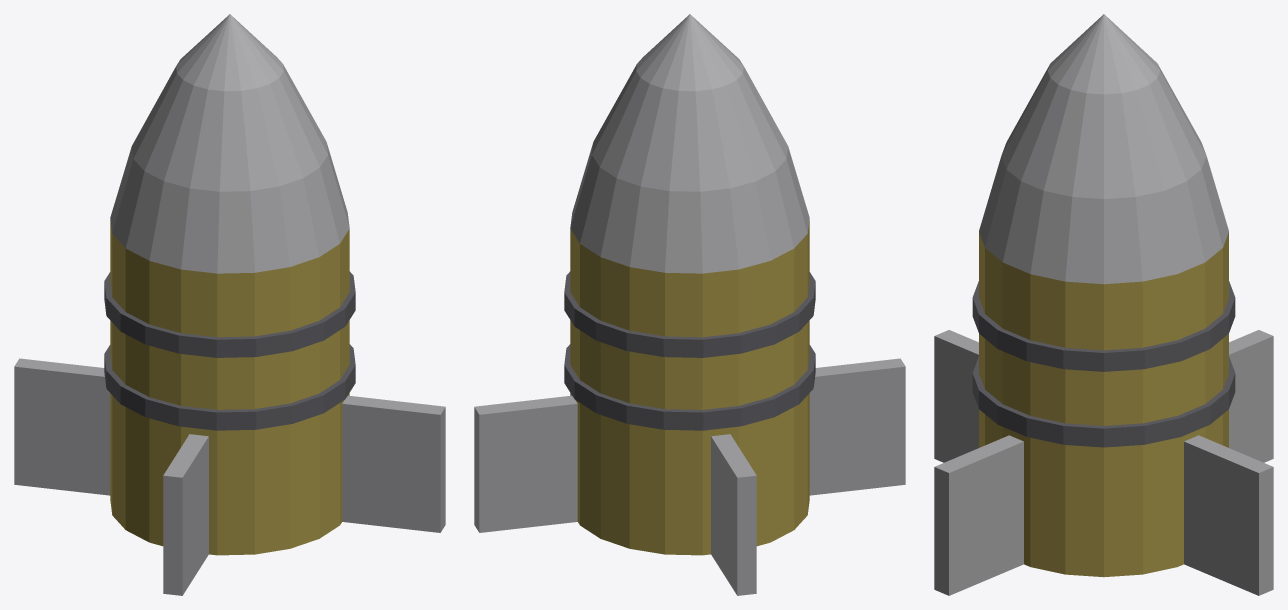
The model's file is vge_warpod_he.obj.
The picture shows the model from 3 angles, left to right: view 1: azimuth 30°, elevation 25°; view 2: azimuth 150°, elevation 25°; view 3: azimuth 270°, elevation 25°; orthographic projection. The views are drawn at different scales.
Visible parts, largest first — view 1: vge_warpod_he_0, vge_warpod_he_3, vge_warpod_he_7, vge_warpod_he_5, vge_warpod_he_6, vge_warpod_he_1, vge_warpod_he_2; view 2: vge_warpod_he_0, vge_warpod_he_3, vge_warpod_he_4, vge_warpod_he_6, vge_warpod_he_5, vge_warpod_he_1, vge_warpod_he_2; view 3: vge_warpod_he_0, vge_warpod_he_3, vge_warpod_he_4, vge_warpod_he_7, vge_warpod_he_1, vge_warpod_he_2, vge_warpod_he_5, vge_warpod_he_6.
Part boxes in pixels (x1,y1,x2,y2): vge_warpod_he_0: (110, 219, 349, 555); vge_warpod_he_3: (110, 14, 349, 273); vge_warpod_he_7: (342, 395, 445, 532); vge_warpod_he_5: (14, 358, 110, 495); vge_warpod_he_6: (163, 434, 208, 595); vge_warpod_he_1: (104, 344, 355, 430); vge_warpod_he_2: (104, 271, 355, 357); vge_warpod_he_0: (570, 219, 809, 555); vge_warpod_he_3: (570, 14, 809, 273); vge_warpod_he_4: (474, 395, 577, 532); vge_warpod_he_6: (809, 358, 905, 495); vge_warpod_he_5: (711, 434, 756, 595); vge_warpod_he_1: (564, 344, 815, 430); vge_warpod_he_2: (564, 271, 815, 357); vge_warpod_he_0: (979, 232, 1228, 577); vge_warpod_he_3: (979, 14, 1228, 284); vge_warpod_he_4: (1184, 435, 1273, 595); vge_warpod_he_7: (934, 435, 1023, 595); vge_warpod_he_1: (972, 356, 1235, 447); vge_warpod_he_2: (972, 281, 1235, 371); vge_warpod_he_5: (1229, 330, 1273, 462); vge_warpod_he_6: (934, 330, 978, 462).
Size of the model in its own units: 0.6506 by 1.08 by 0.6506.
